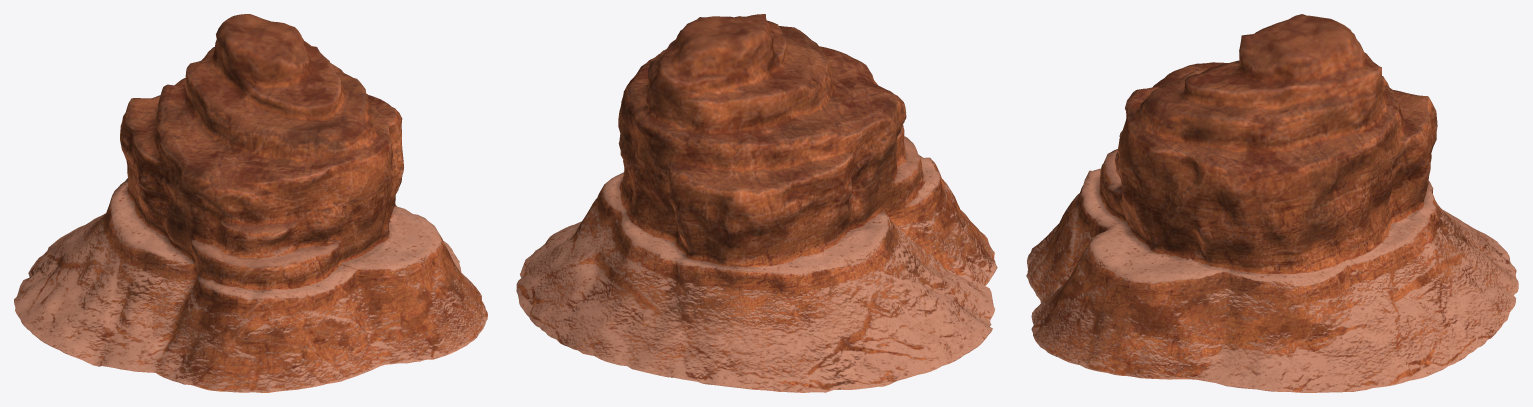
Rendered from P6DesertCliff-High.fbx.
The picture shows the model from 3 angles, left to right: view 1: azimuth 30°, elevation 25°; view 2: azimuth 150°, elevation 25°; view 3: azimuth 270°, elevation 25°; orthographic projection. The views are drawn at different scales.
Parts seen in each view (by area): view 1: P6DesertCliff-High; view 2: P6DesertCliff-High; view 3: P6DesertCliff-High.
Boxes of the visible parts, x1,y1,x2,y2 form: P6DesertCliff-High: (14,14,487,392); P6DesertCliff-High: (516,14,997,392); P6DesertCliff-High: (1026,14,1518,392).
Size of the model in its own units: 3007 by 1848 by 2945.
Materials: 1 (1 with a texture image).
